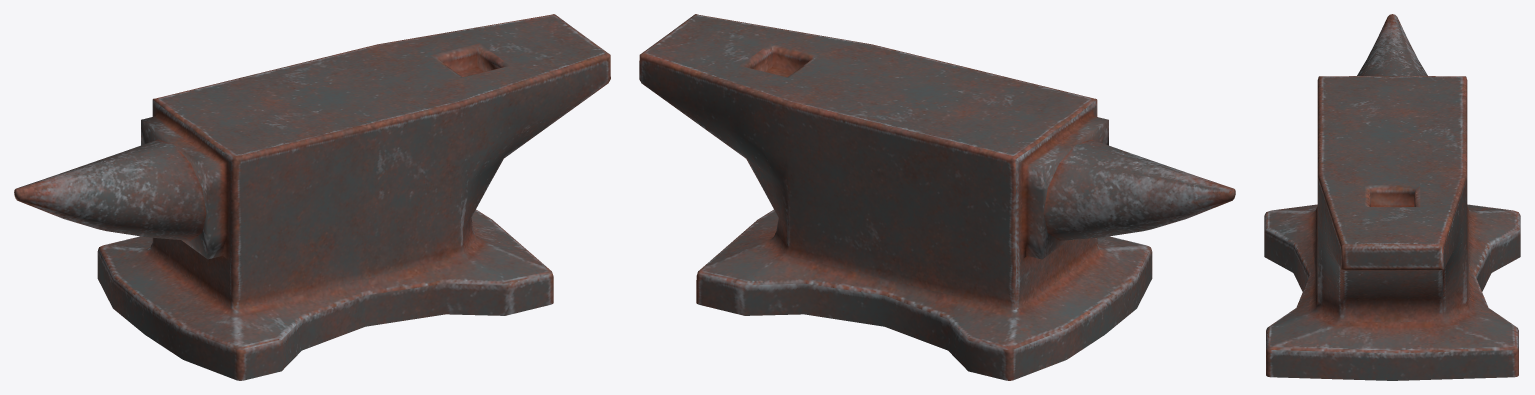
The model's file is anvil.glb.
The picture shows the model from 3 angles, left to right: view 1: azimuth 30°, elevation 25°; view 2: azimuth 150°, elevation 25°; view 3: azimuth 270°, elevation 25°; orthographic projection. The views are drawn at different scales.
Visible parts, largest first — view 1: SM_Anvil2_129_M_Anvil_0; view 2: SM_Anvil2_129_M_Anvil_0; view 3: SM_Anvil2_129_M_Anvil_0.
Part boxes in pixels (left/top/right/bottom): SM_Anvil2_129_M_Anvil_0: left=14, top=14, right=610, bottom=380; SM_Anvil2_129_M_Anvil_0: left=639, top=14, right=1235, bottom=380; SM_Anvil2_129_M_Anvil_0: left=1264, top=14, right=1520, bottom=380.
Bounding box in the file's own units: 99.3 × 32.48 × 43.24.
Materials: 1 (1 with a texture image).
